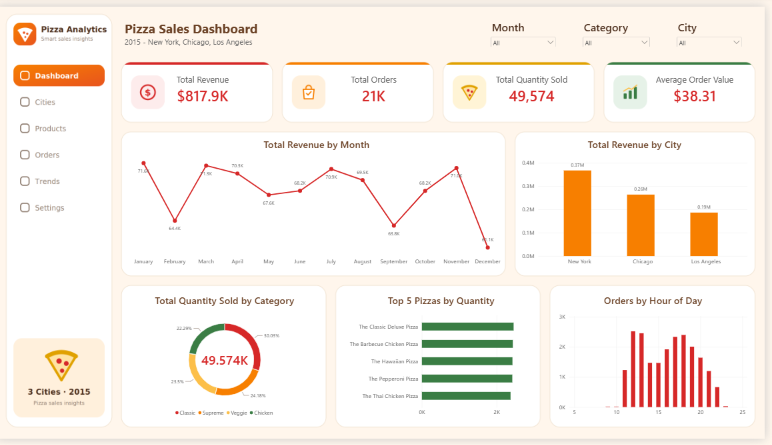

This screenshot's page, from the dashboard's own definition file:
{"tool":"powerbi","page":{"name":"dashboard","canvas":[1920,1080],"ordinal":0},"visuals":[{"type":"cardVisual","fields":{"Data":["Fact_Sales.Average Order Value"]},"box":[1622.5,165,245,85],"z":0},{"type":"cardVisual","fields":{"Data":["Fact_Sales.Total Quantity Sold"]},"box":[1215,165,245,84],"z":1000},{"type":"cardVisual","fields":{"Data":["Fact_Sales.Total Orders"]},"box":[820,165,245,84],"z":2000},{"type":"cardVisual","fields":{"Data":["Fact_Sales.Total Revenue"]},"box":[392.5,165,245,84],"z":3000},{"type":"clusteredColumnChart","title":"Total Revenue by City","fields":{"Category":["Dim_Branch.city"],"Y":["Fact_Sales.Total Revenue"]},"box":[1298.3,313.3,595,366.7],"z":4000},{"type":"lineChart","title":"Total Revenue by Month","fields":{"Category":["Dim_Date.order_date.Variation.Date Hierarchy.Month"],"Y":["Fact_Sales.Total Revenue"]},"box":[306.7,311.7,966.7,368.3],"z":5000},{"type":"clusteredColumnChart","title":"Orders by Hour of Day","fields":{"Category":["Fact_Sales.Hour"],"Y":["Fact_Sales.Total Orders"]},"box":[1385,693.8,507.5,361.2],"z":6000},{"type":"clusteredBarChart","title":"Top 5 Pizzas by Quantity","fields":{"Category":["Dim_Pizza.pizza_name"],"Y":["Fact_Sales.Total Quantity Sold"]},"box":[844,694,524,362],"z":7000},{"type":"slicer","fields":{"Values":["Dim_Branch.city"]},"box":[1695.8,33.3,172.5,67.5],"z":8000},{"type":"slicer","fields":{"Values":["Dim_Pizza.category"]},"box":[1460.8,32.5,177.5,67.5],"z":9000},{"type":"slicer","fields":{"Values":["Dim_Date.Month Name"]},"box":[1230.8,33.3,172.5,67.5],"z":10000},{"type":"donutChart","title":"Total Quantity Sold by Category","fields":{"Category":["Dim_Pizza.category"],"Y":["Fact_Sales.Total Quantity Sold"]},"box":[306,694,514,362],"z":11000},{"type":"textbox","box":[320,32.5,452.5,85],"z":12000}]}

Visuals, with their boxes on the page's 1920x1080 design canvas (x1, y1, x2, y2). These are canvas units, not pixel positions in the 772x445 screenshot, which may show the page scaled, cropped or inside an application window:
cardVisual - Fact_Sales.Average Order Value: x1=1622 y1=165 x2=1868 y2=250
cardVisual - Fact_Sales.Total Quantity Sold: x1=1215 y1=165 x2=1460 y2=249
cardVisual - Fact_Sales.Total Orders: x1=820 y1=165 x2=1065 y2=249
cardVisual - Fact_Sales.Total Revenue: x1=392 y1=165 x2=638 y2=249
"Total Revenue by City" clusteredColumnChart: x1=1298 y1=313 x2=1893 y2=680
"Total Revenue by Month" lineChart: x1=307 y1=312 x2=1273 y2=680
"Orders by Hour of Day" clusteredColumnChart: x1=1385 y1=694 x2=1892 y2=1055
"Top 5 Pizzas by Quantity" clusteredBarChart: x1=844 y1=694 x2=1368 y2=1056
slicer - Dim_Branch.city: x1=1696 y1=33 x2=1868 y2=101
slicer - Dim_Pizza.category: x1=1461 y1=32 x2=1638 y2=100
slicer - Dim_Date.Month Name: x1=1231 y1=33 x2=1403 y2=101
"Total Quantity Sold by Category" donutChart: x1=306 y1=694 x2=820 y2=1056
textbox: x1=320 y1=32 x2=772 y2=118
